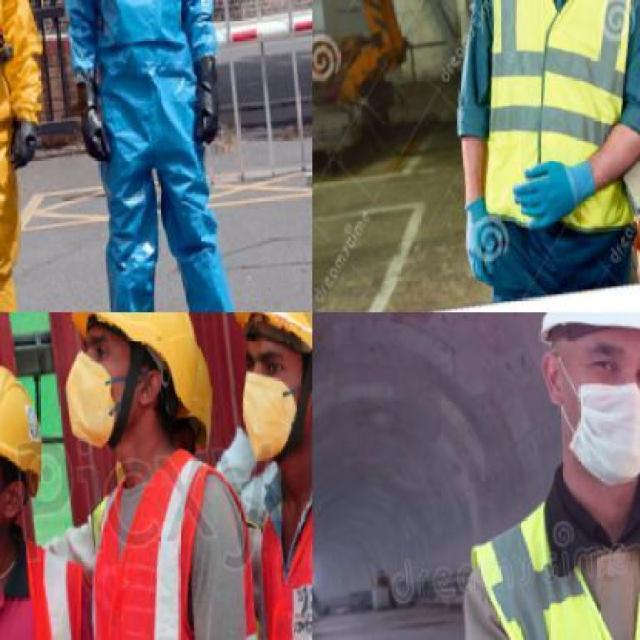Vest: (58, 0, 251, 311), (456, 0, 638, 251), (71, 440, 271, 638), (463, 466, 639, 639), (0, 0, 66, 311)
